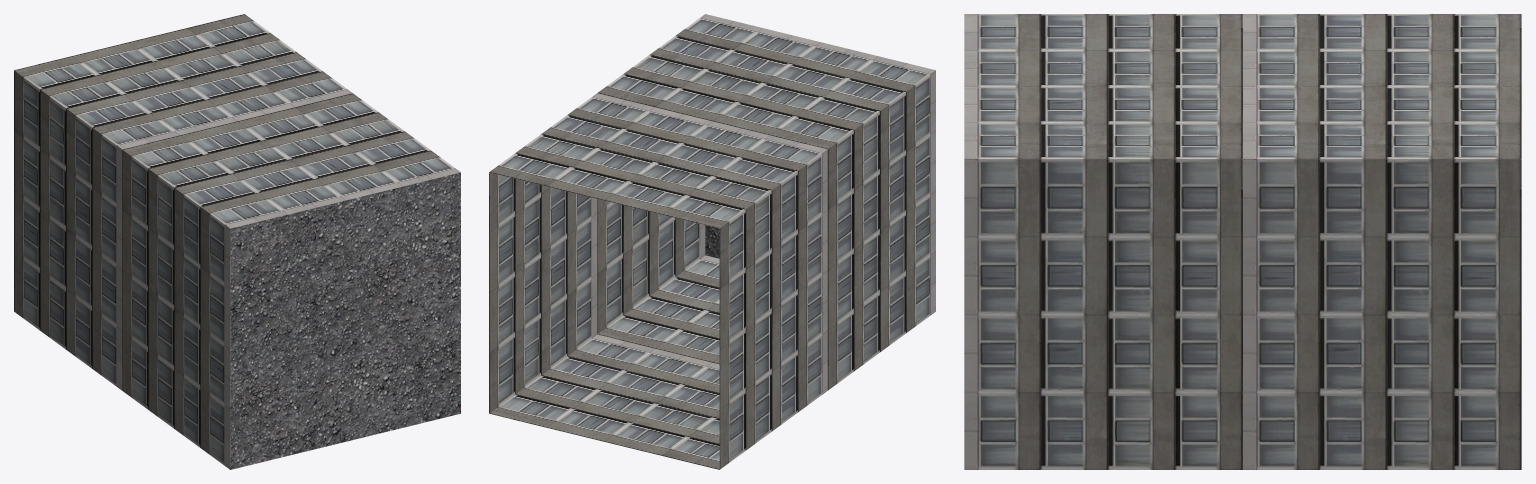
The model's file is mp_nuketown_2020_vista_bldg_05_LOD0.obj.
3 views of the same model, side by side, from view 1: azimuth 30°, elevation 25°; view 2: azimuth 150°, elevation 25°; view 3: azimuth 270°, elevation 25° (orthographic). The views are drawn at different scales.
Parts seen in each view (by area): view 1: mp_m_vista_bldgs_01; view 2: mp_m_vista_bldgs_01; view 3: mp_m_vista_bldgs_01.
Boxes of the visible parts, x1,y1,x2,y2 form: mp_m_vista_bldgs_01: (14,14,460,469); mp_m_vista_bldgs_01: (489,14,935,469); mp_m_vista_bldgs_01: (964,14,1521,469).
Size of the model in its own units: 1951 by 1951 by 3170.
Materials: 1 (1 with a texture image).
